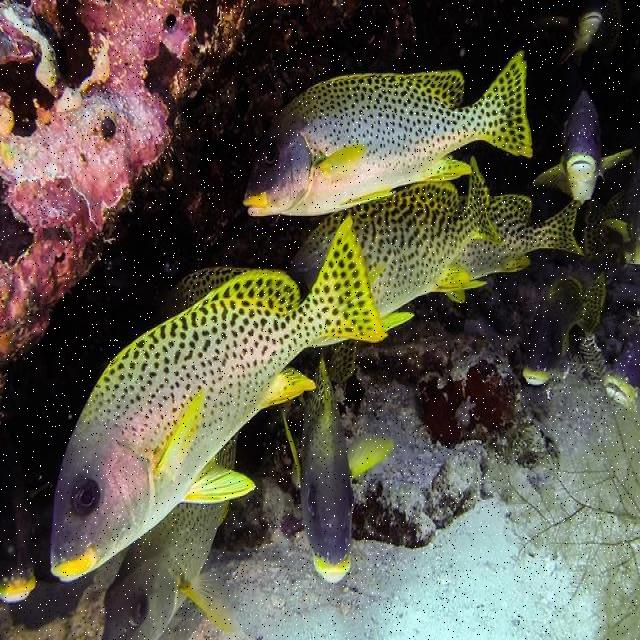fish: (48, 219, 386, 584), (239, 50, 538, 222), (285, 156, 504, 310), (100, 435, 244, 638), (281, 350, 394, 590), (532, 88, 632, 203), (456, 194, 585, 279), (522, 272, 607, 387)
